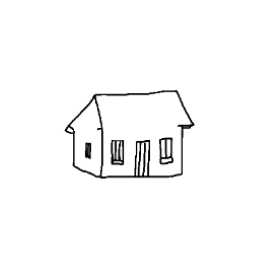closed_window: (155, 135, 178, 167), (108, 136, 126, 167)
door: (132, 139, 154, 182)
single_line_roof: (60, 86, 198, 135)
small_house: (2, 1, 260, 260)
wall: (96, 124, 187, 181)
